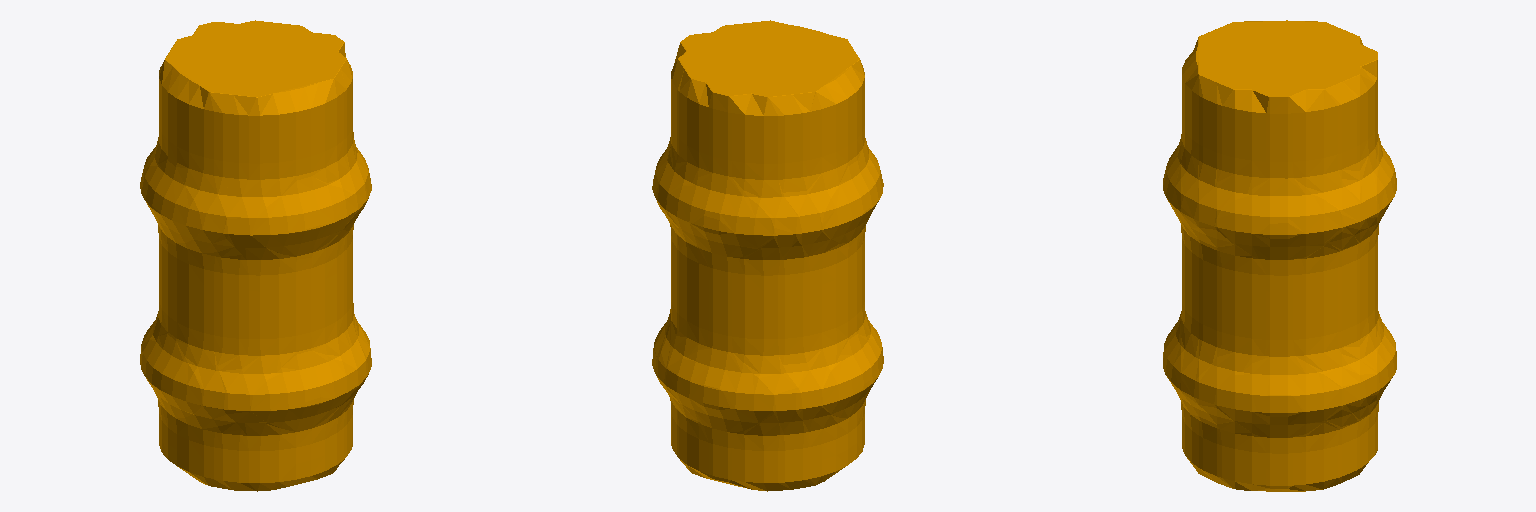
URDF robot description (cylinder_../../meshes/cylinders/cylinder_68.stl):
<?xml version="1.0" encoding="utf-8"?>  <robot name="cylinder_../../meshes/cylinders/cylinder_68.stl">   <link name="cylinder_../../meshes/cylinders/cylinder_68.stl">     <visual>       <geometry>         <mesh filename="../meshes/cylinders/cylinder_68.stl" scale="1 1 1"/>       </geometry>     </visual>     <collision>       <geometry>         <mesh filename="../meshes/cylinders/cylinder_68.stl" scale="1 1 1"/>       </geometry>     </collision>     <inertial>        <origin         xyz="0 0 0"         rpy="0 0 0" />       <mass value="0.31988990273912804"/>       <origin rpy="0 0 0" xyz="0 0 0"/>       <inertia ixx="0.0004591000160358427" ixy="3.5568459963910795e-10" ixz="-1.181127791585316e-07" iyy="0.00045909749008796397" iyz="-1.237118501418151e-07" izz="0.00013355030318253544"/>     </inertial>   </link>  </robot>

--- What the picture shows (computed from the rendered views, not written in the file) ---
Views: 3 orthographic renders of the robot side by side, from view 1: azimuth 30°, elevation 25°; view 2: azimuth 150°, elevation 25°; view 3: azimuth 270°, elevation 25°.
Robot: cylinder_../../meshes/cylinders/cylinder_68.stl — 1 links, 0 joints (none); root link cylinder_../../meshes/cylinders/cylinder_68.stl; default pose: all joints at 0.
Visible links, largest first — view 1: cylinder_../../meshes/cylinders/cylinder_68.stl; view 2: cylinder_../../meshes/cylinders/cylinder_68.stl; view 3: cylinder_../../meshes/cylinders/cylinder_68.stl.
Boxes of the visible links, bbox=[...] form: cylinder_../../meshes/cylinders/cylinder_68.stl: bbox=[140, 20, 371, 491]; cylinder_../../meshes/cylinders/cylinder_68.stl: bbox=[652, 20, 883, 491]; cylinder_../../meshes/cylinders/cylinder_68.stl: bbox=[1163, 20, 1396, 491].
Bounding box of the posed robot: 0.0658 × 0.0658 × 0.1242 m (x, y, z).
Meshes: 1 distinct files referenced, 1 mesh visuals loaded (1 binary STL).